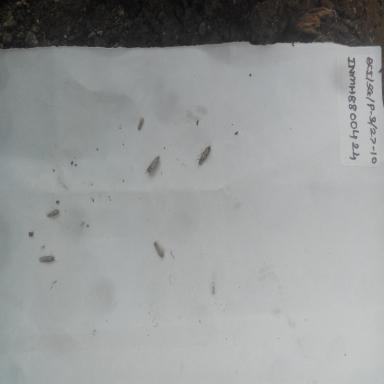pbw: (191, 140, 212, 167), (144, 152, 163, 180), (149, 238, 168, 263), (36, 250, 57, 266), (44, 206, 62, 220), (135, 114, 146, 132)
